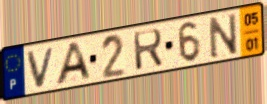2: (100, 32, 128, 80)
6: (177, 19, 203, 64)
A: (53, 40, 94, 88)
N: (206, 11, 240, 61)
R: (131, 26, 165, 72)
V: (25, 44, 58, 90)
